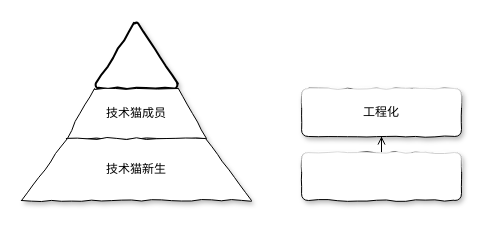
Some shapes in this 485 by 225 pixel diagram are drawn without their labels. Here are the shapes that lost their labels. From the top down, the centre of each, then its label:
At pixel 137 56: "技术猫核心".
At pixel 382 178: "学习意愿".
